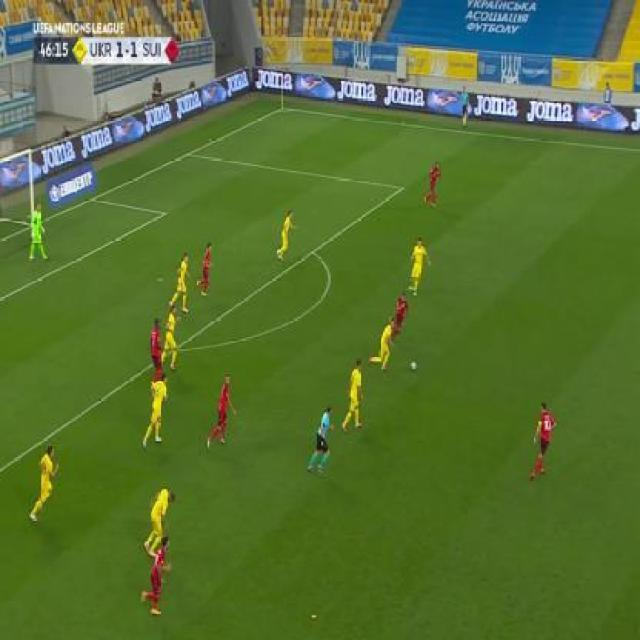ball: (410, 358, 418, 371)
player: (140, 534, 173, 619), (28, 445, 62, 524), (142, 485, 176, 558), (207, 373, 238, 449), (529, 400, 558, 479), (366, 311, 400, 374), (142, 370, 170, 446), (307, 402, 335, 475), (343, 357, 366, 433), (407, 236, 432, 296), (169, 251, 191, 313), (26, 202, 48, 261), (163, 299, 180, 373), (273, 209, 296, 260), (147, 316, 164, 381), (197, 241, 214, 298), (422, 160, 442, 208), (393, 291, 409, 342), (459, 86, 470, 129)
